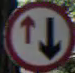Two way: (20, 15, 63, 61)
